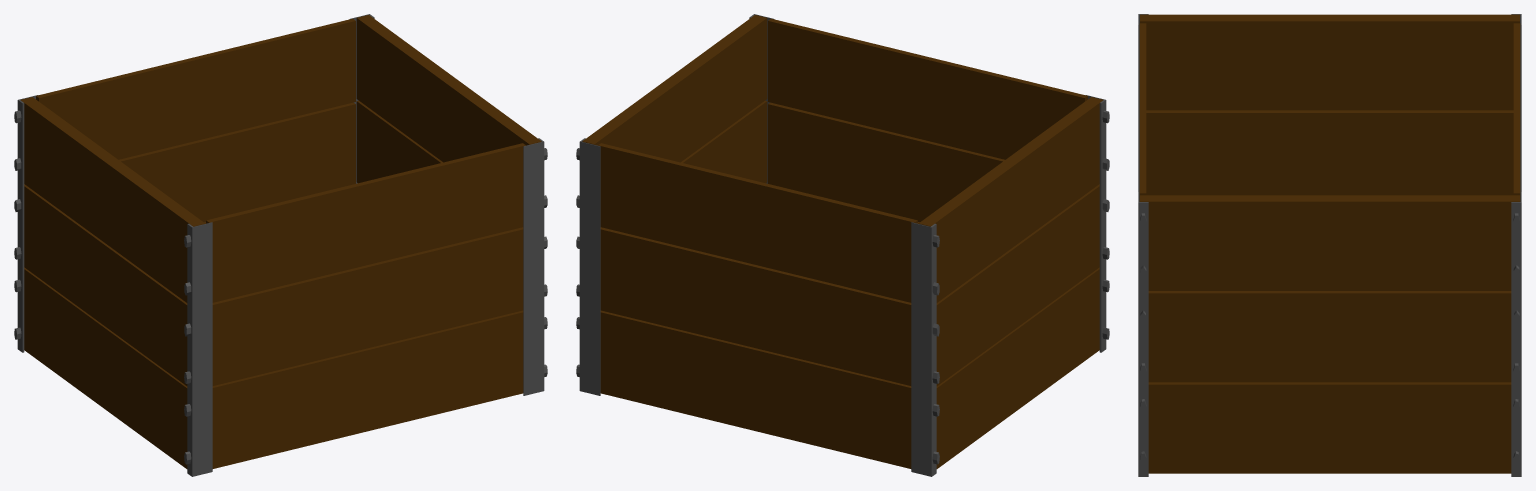
Rendered from chest.fbx.
3 renders of one model, left to right at view 1: azimuth 30°, elevation 25°; view 2: azimuth 150°, elevation 25°; view 3: azimuth 270°, elevation 25°, orthographic. The views are drawn at different scales.
Parts seen in each view (by area): view 1: Corner.001; view 2: Corner.001; view 3: Corner.001.
Boxes of the visible parts, box(x1,y1,x2,y2) form: Corner.001: box(14, 14, 547, 476); Corner.001: box(576, 14, 1109, 476); Corner.001: box(1138, 14, 1521, 476).
Size of the model in its own units: 283 by 187 by 237.
